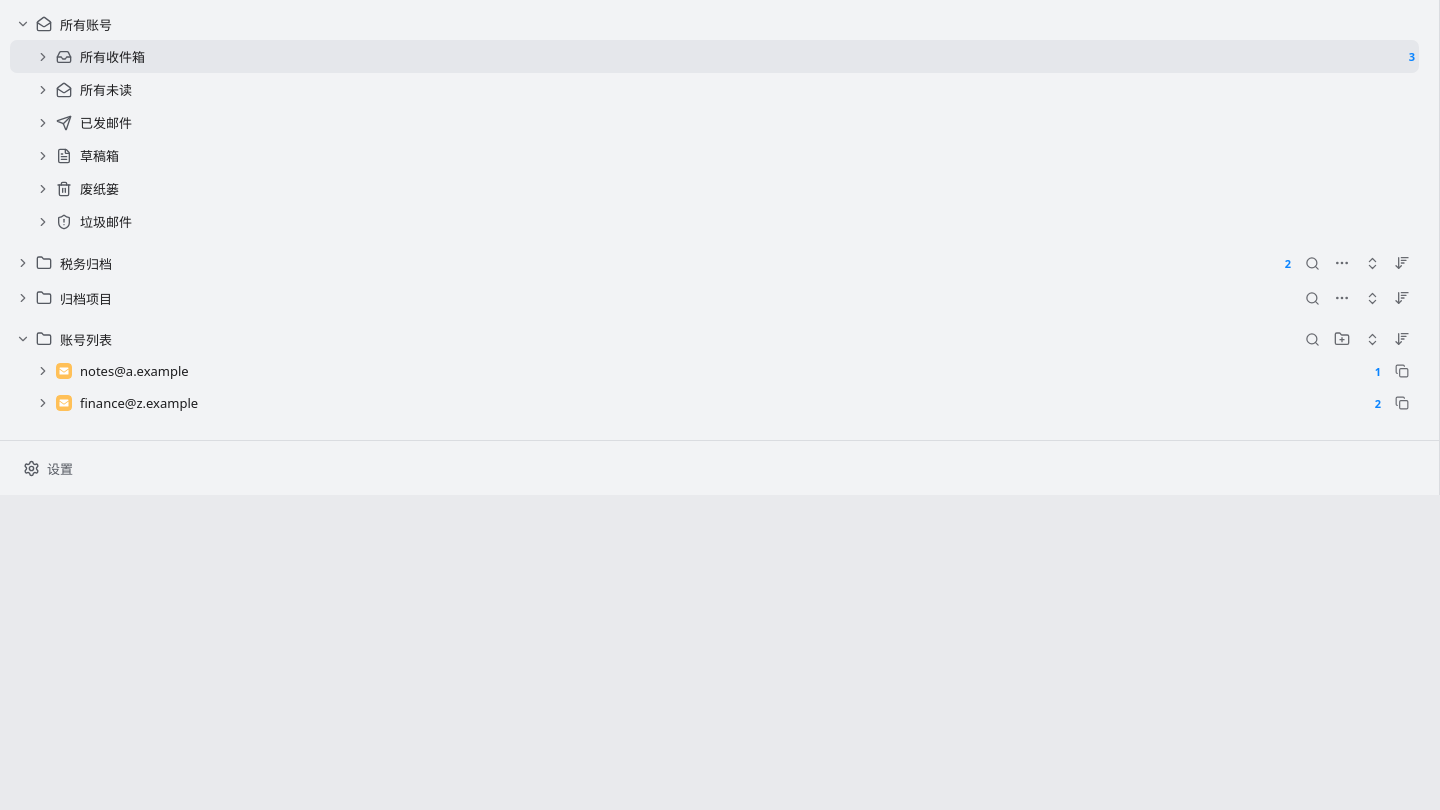
it: <Sidebar /> › keeps all six existing global categories and renders only user groups
Expected: the 1st text with class "unread-badge" reads "2", [1285,256,1291,270]
Expected: the text with class "unread-badge" reads "3", [1409,49,1415,64]
Click the button named "展开 所有收件箱" at coordinates (43, 56), box [34,44,52,70]
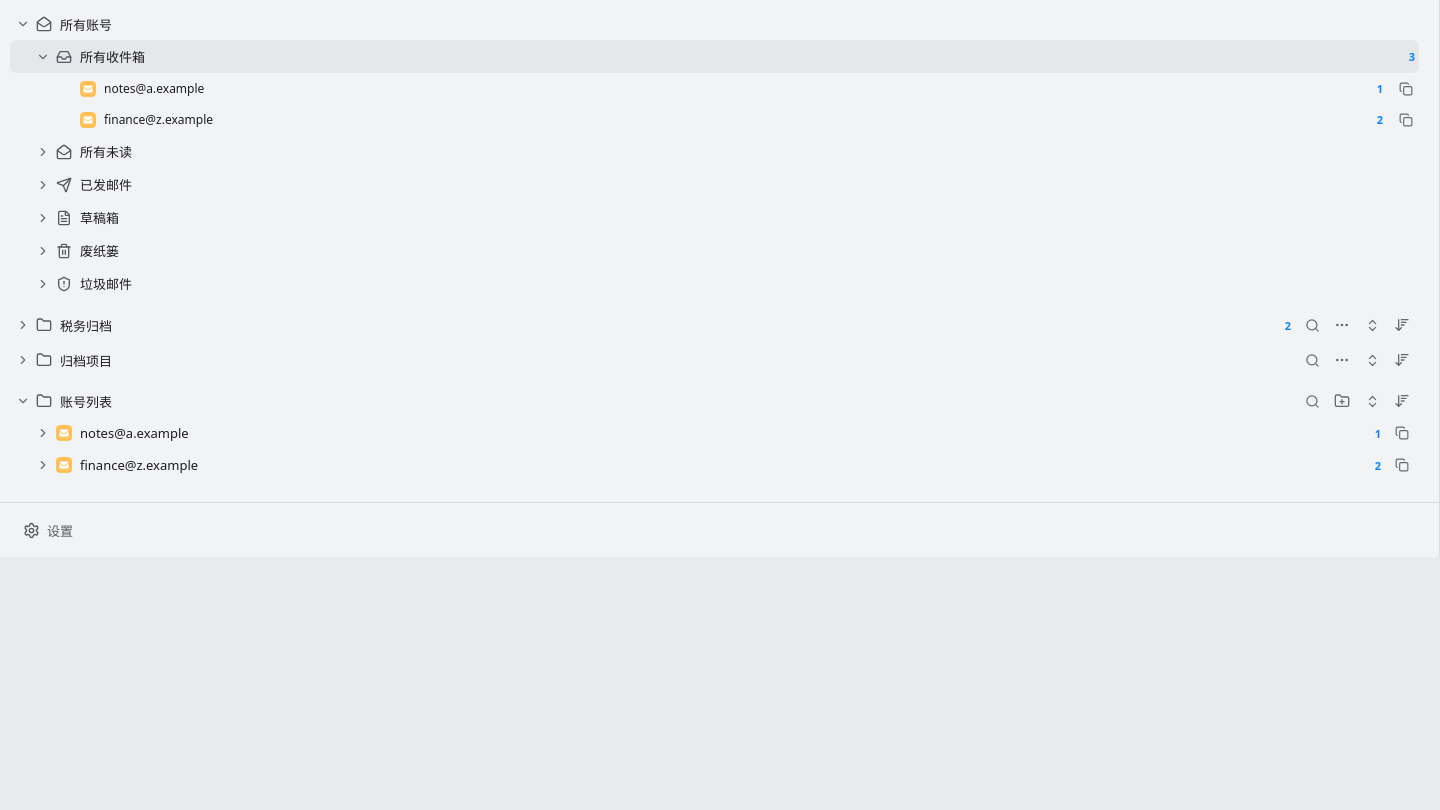
Expected: the number of buttons with class "tree-category-account" is 2, [10,74,1391,103]; [10,105,1391,134]
